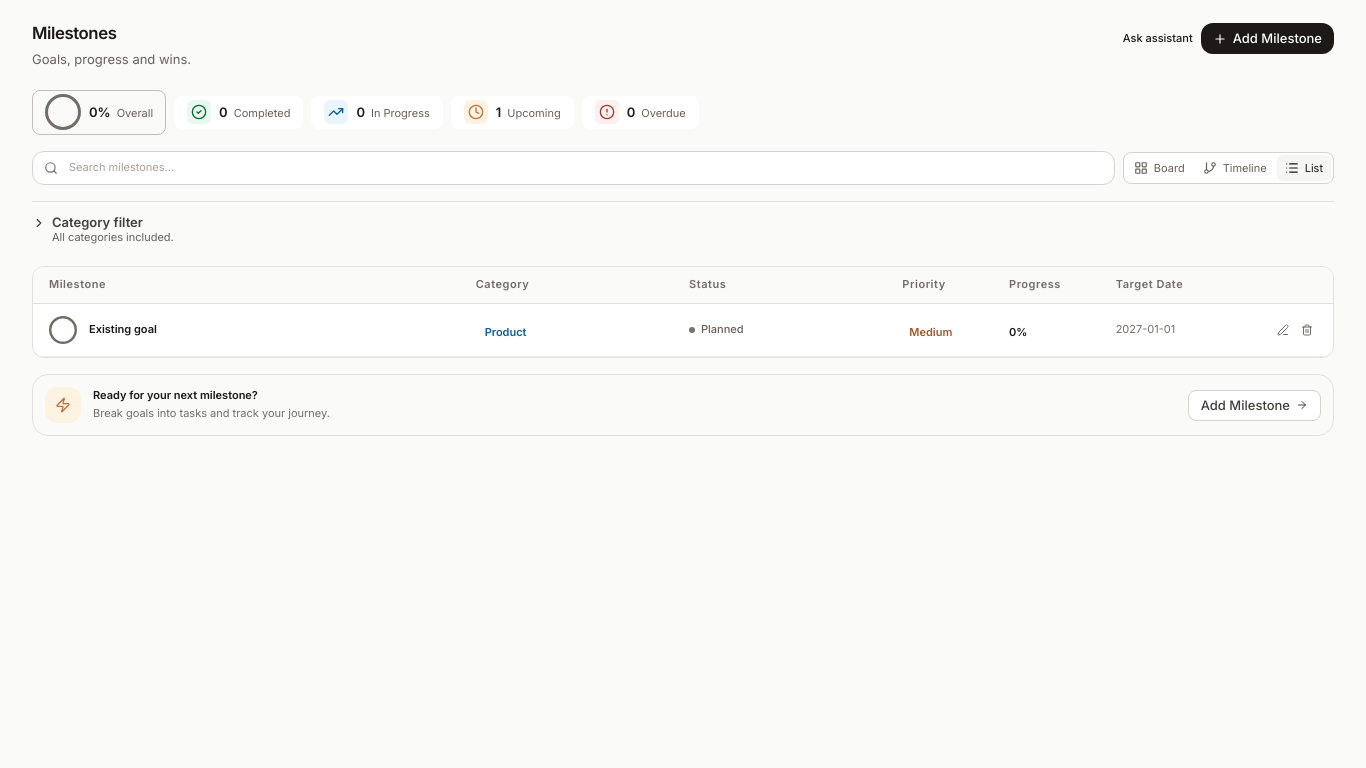
Scenario: milestone editing after the clarity layout change › retains failed submissions and retries without duplicate records
This screenshot has width=1366, height=768.
Expected: the element named "Milestone details table" is shown, [32,266,1334,358]
Click the button "Add Milestone" in the row of "Goals, progress and wins." at [1267, 39], box [1201,23,1334,54]
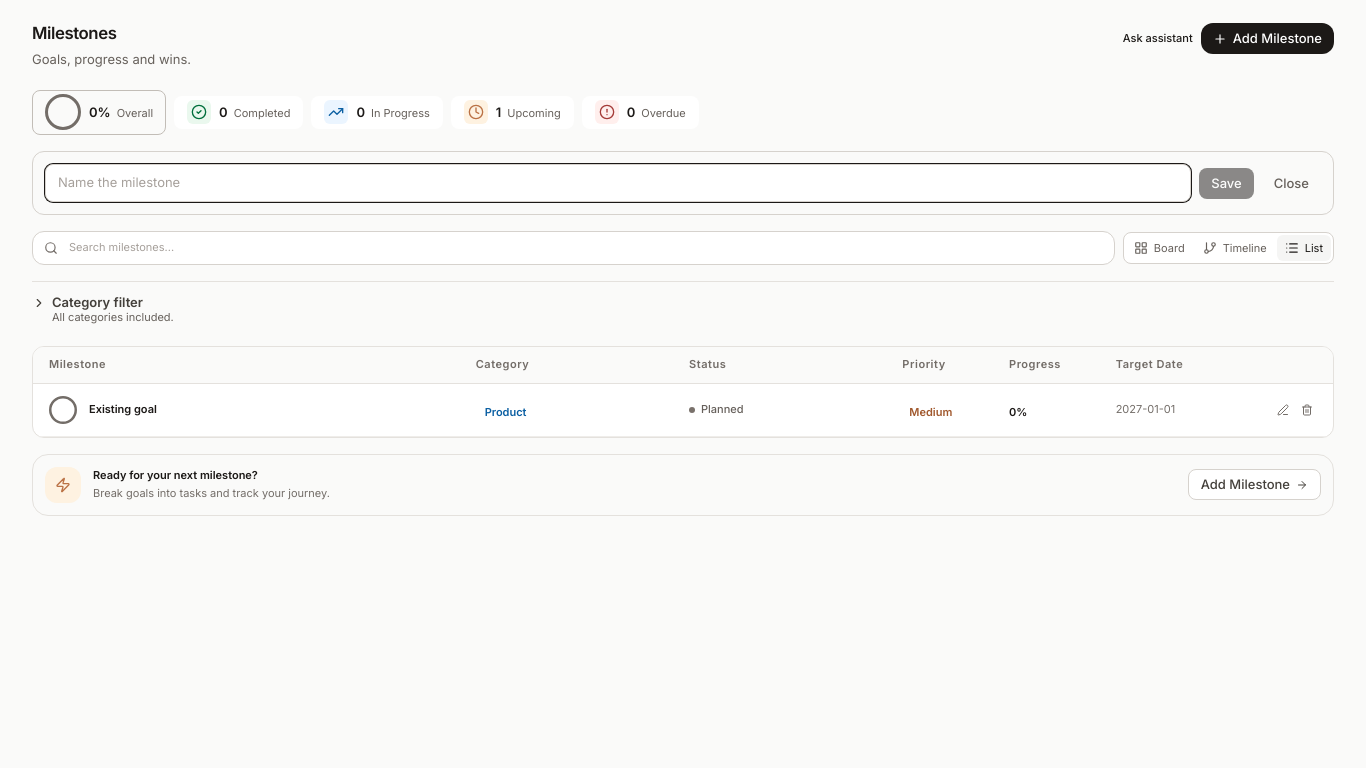
Type "Retry fixture" into the field named "Milestone title" at [618, 183], box [45,164,1191,202]
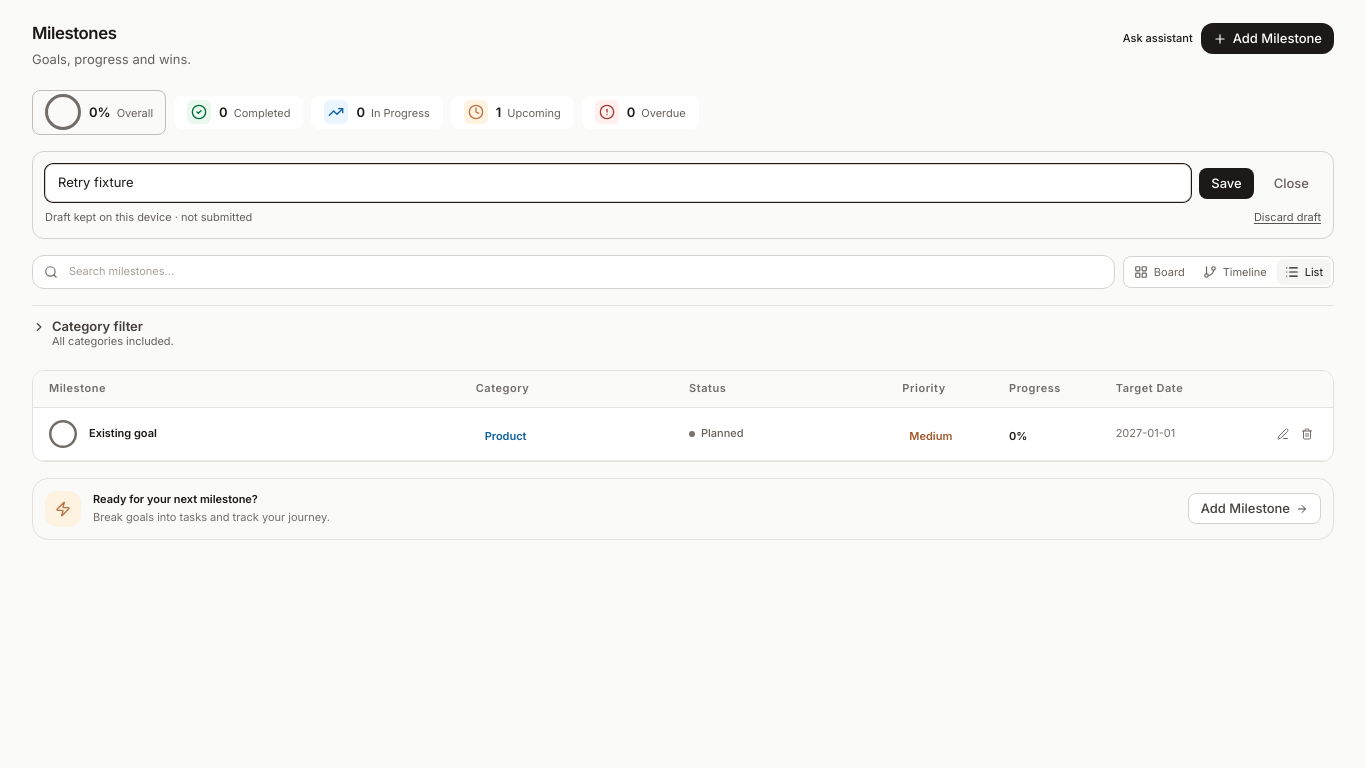
Click the button "Save" at [1226, 183], box [1199,168,1254,198]
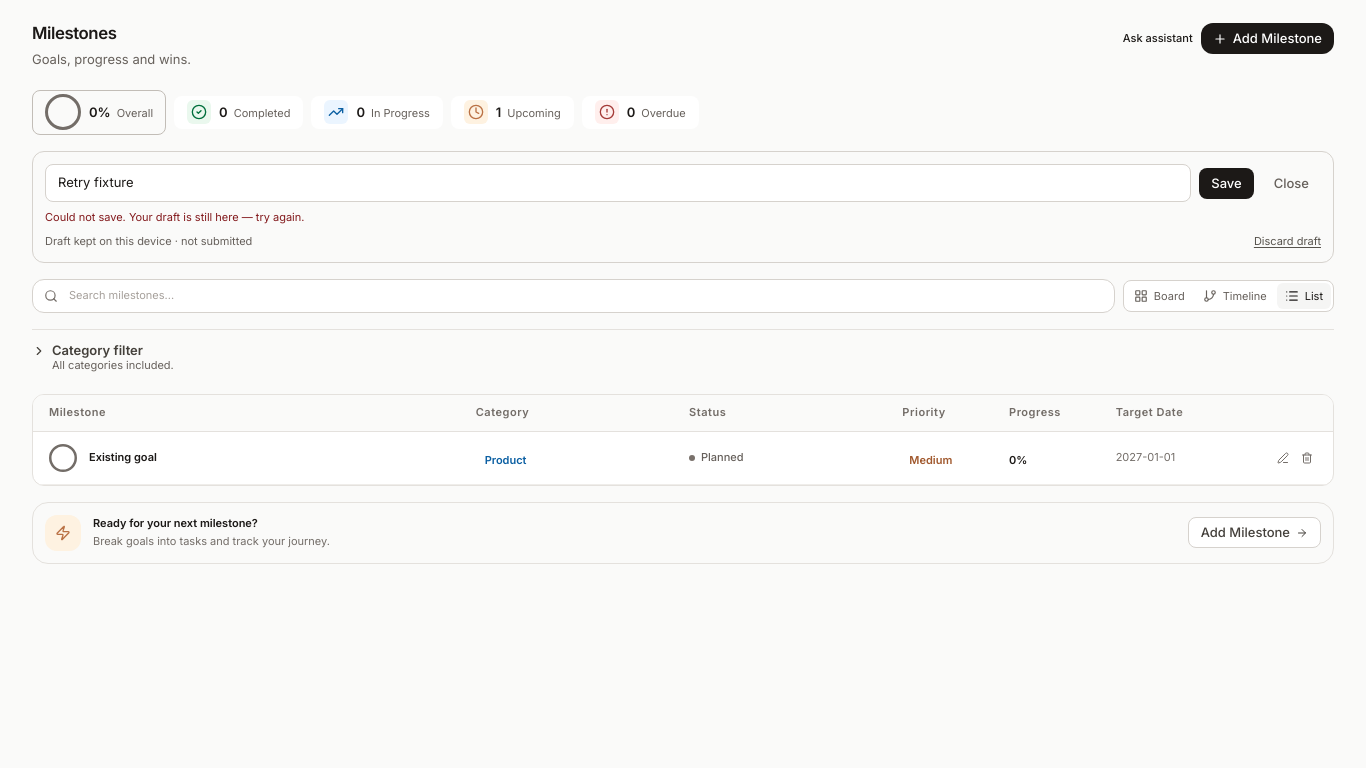
Expected: the message "Could not save. Your draft is still here — try again." is shown, [45,210,304,224]
Click the button "Save" at [1226, 183], box [1199,168,1254,198]
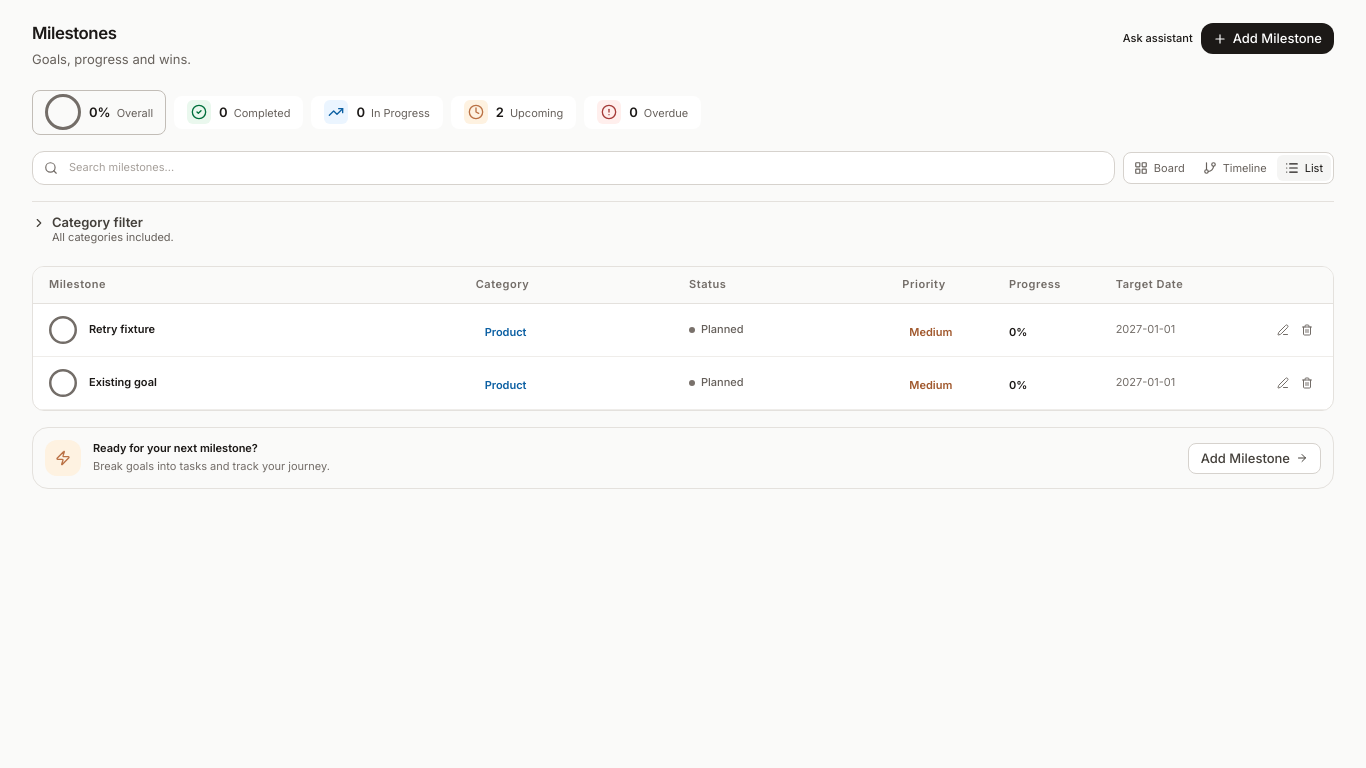
Expected: the text "Retry fixture" is shown once, [89,322,155,338]
